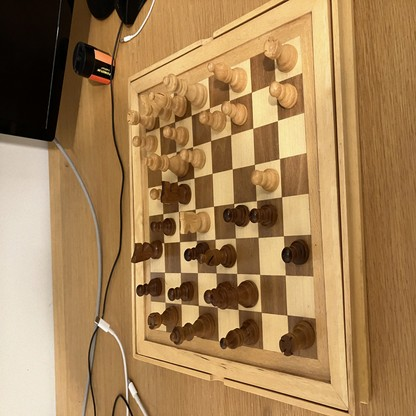bishop_black: (220, 320, 259, 349), (197, 244, 237, 266)
bishop_white: (208, 62, 248, 92), (150, 93, 187, 117)
king_black: (211, 281, 258, 309)
king_white: (142, 154, 189, 177)
knight_black: (161, 181, 191, 205), (131, 242, 164, 261)
knight_white: (141, 94, 170, 120), (180, 212, 211, 234)
pawn_black: (282, 239, 308, 265), (249, 205, 278, 225), (223, 206, 250, 226), (136, 277, 163, 297), (168, 281, 194, 300), (185, 242, 210, 259), (151, 219, 177, 235)
pawn_white: (271, 82, 298, 109), (252, 169, 279, 192), (222, 102, 248, 125), (198, 111, 226, 132), (162, 126, 189, 144), (181, 149, 206, 168), (133, 136, 158, 151)
queen_black: (170, 315, 216, 344)
queen_white: (163, 75, 209, 107)
rock_black: (280, 322, 315, 356), (147, 306, 178, 329)
rock_white: (264, 36, 298, 73), (128, 110, 155, 130)
